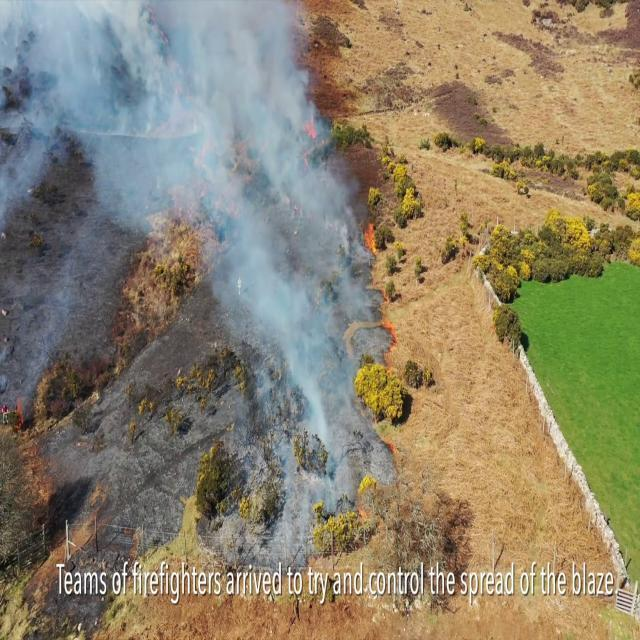Smoke: (19, 0, 276, 100), (205, 0, 283, 191)
